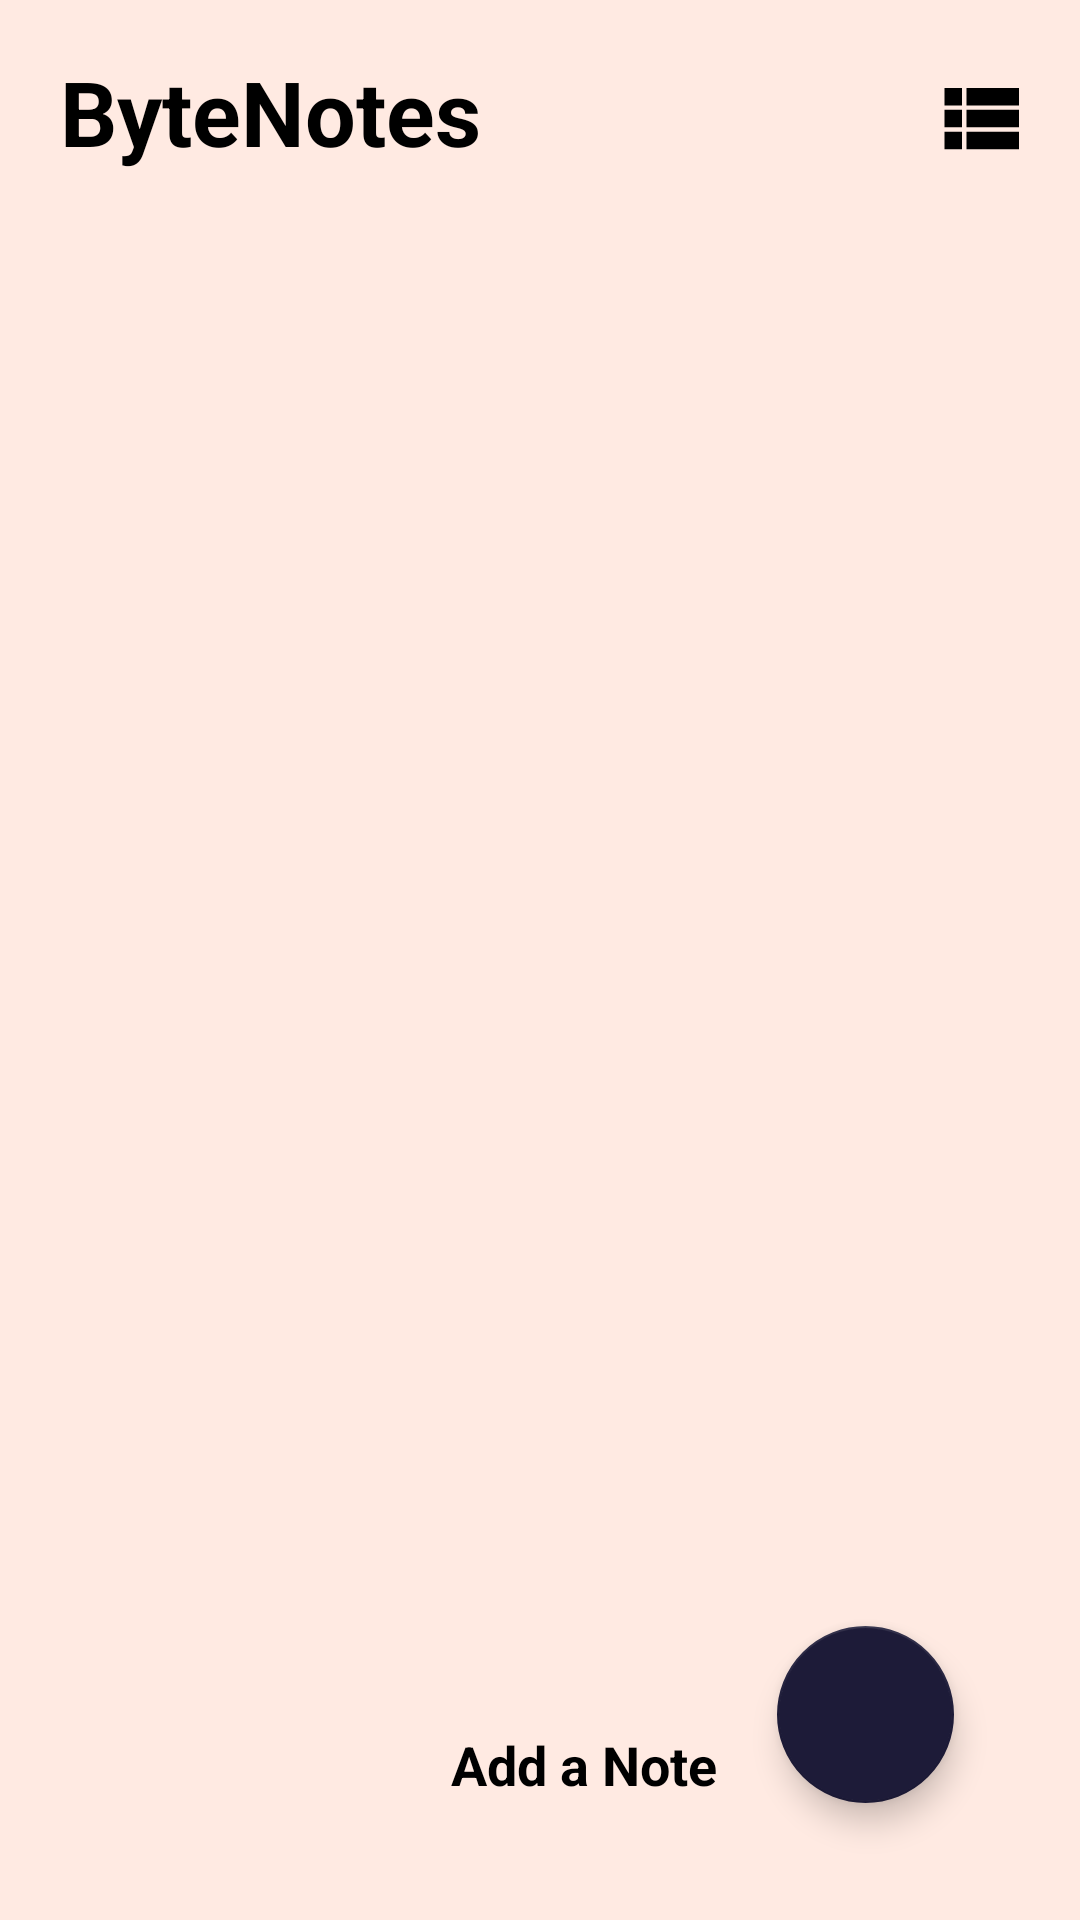

Icon click points for this 1080 x 1920 phone screenshot, format (x,y):
view list: (981,119)
